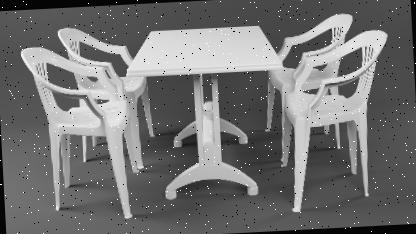chair: (272, 26, 398, 213), (18, 42, 140, 220), (252, 7, 360, 138), (40, 19, 146, 124)
